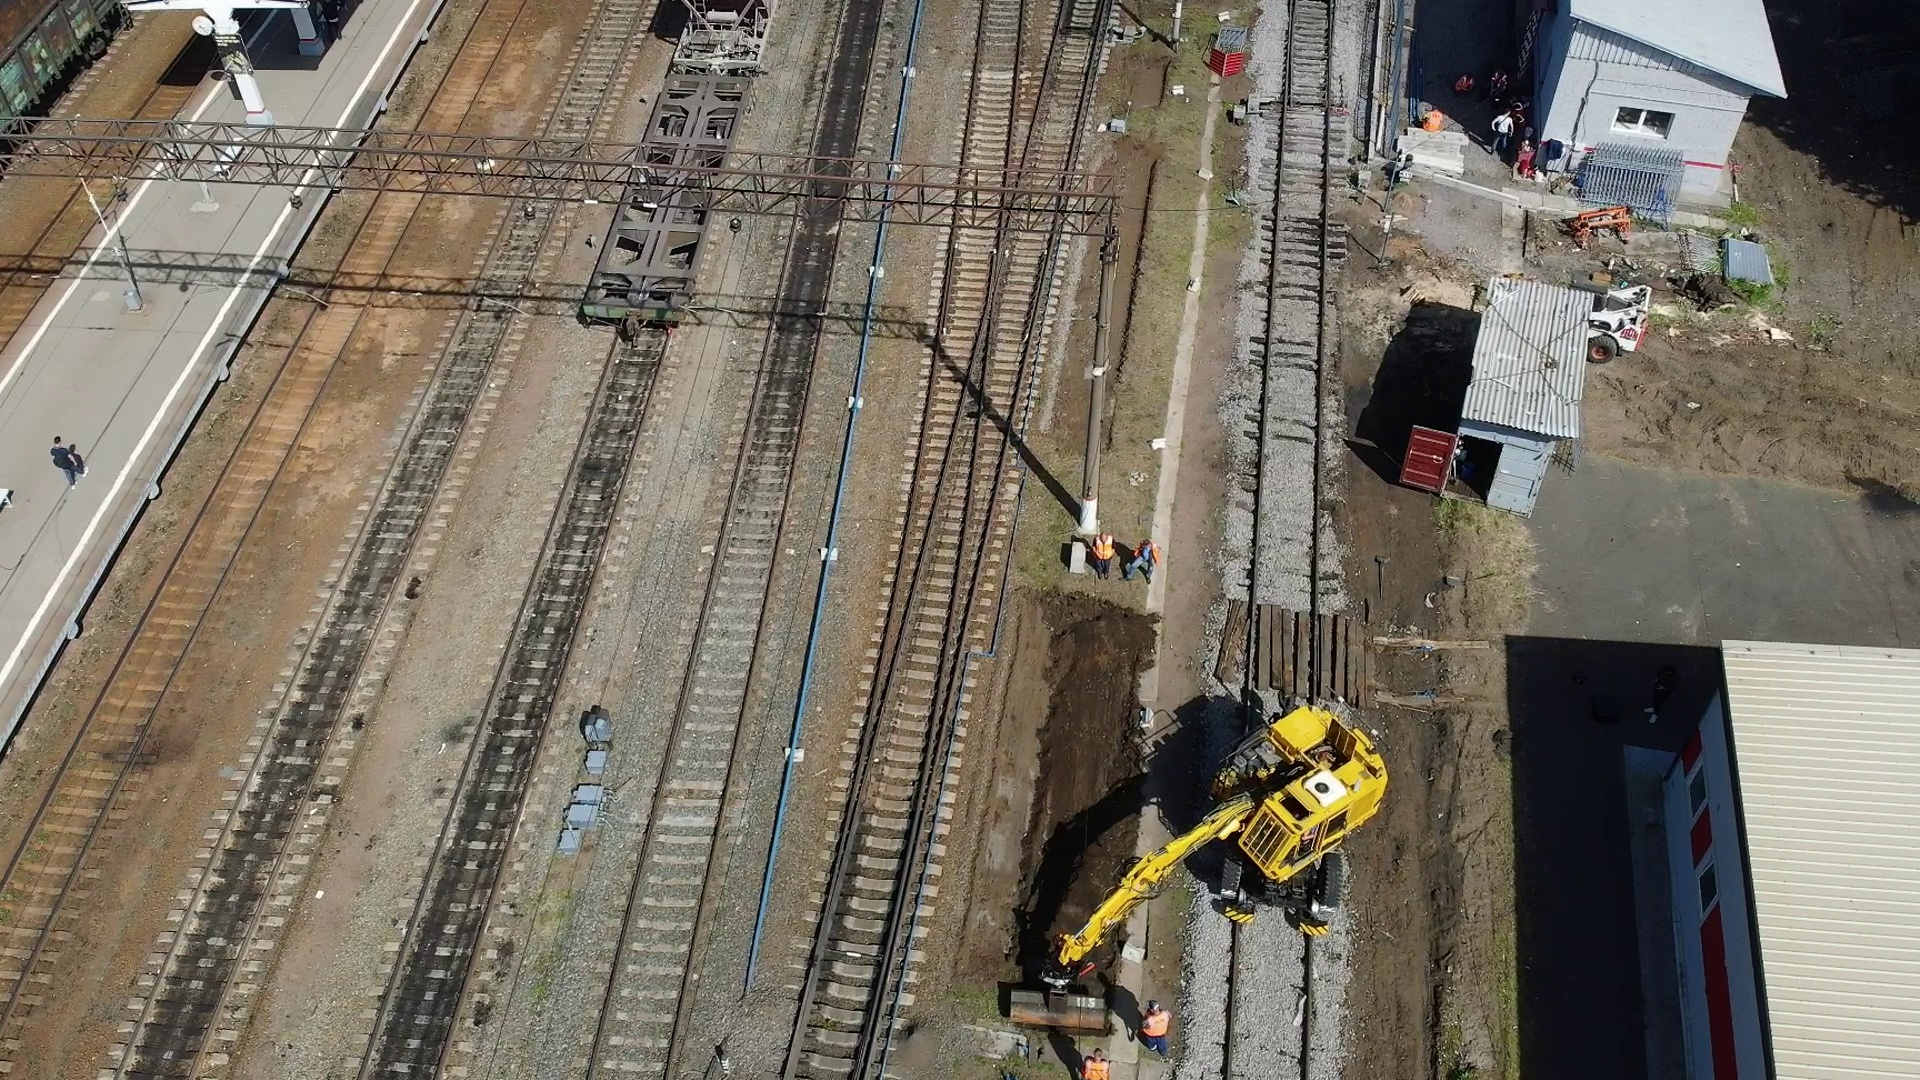kjtv: (1165, 687, 1388, 946)
